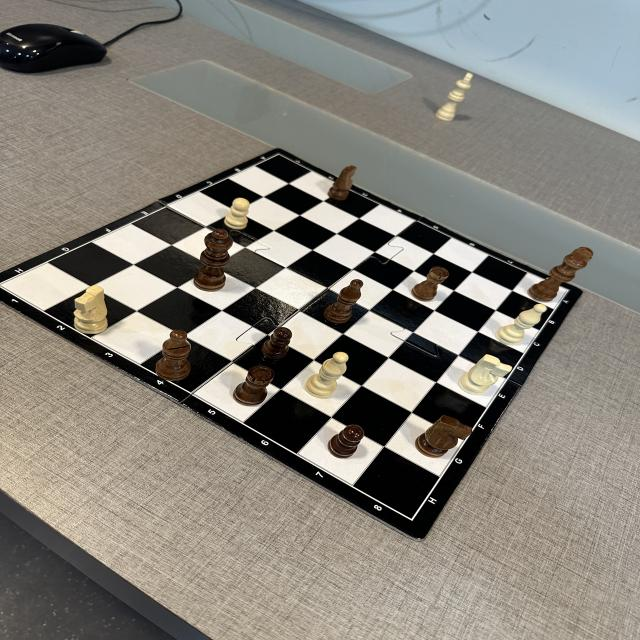Black-Bishop: (155, 329, 191, 382), (323, 279, 364, 324)
Black-King: (527, 246, 594, 303)
Black-Knight: (415, 415, 472, 458), (328, 165, 357, 201)
Black-Pawn: (328, 424, 364, 459), (262, 327, 292, 360)
Black-Queen: (193, 228, 234, 292)
Black-Rook: (232, 366, 275, 406), (411, 266, 449, 302)
White-Bishop: (495, 304, 547, 345), (304, 352, 348, 398)
White-King: (435, 72, 474, 121)
White-Knight: (74, 285, 109, 334)
White-Pawn: (224, 198, 250, 230)
